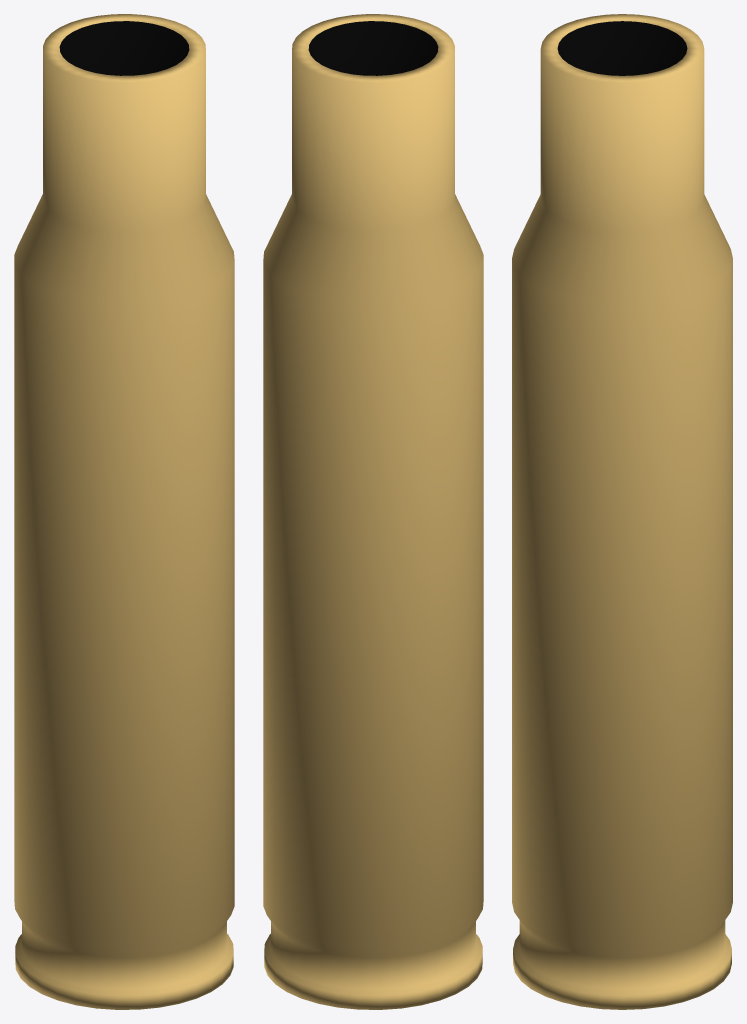
File: bullet case.fbx
3 views of the same model, side by side, from view 1: azimuth 30°, elevation 25°; view 2: azimuth 150°, elevation 25°; view 3: azimuth 270°, elevation 25° (orthographic).
Parts seen in each view (by area): view 1: notBullet; view 2: notBullet; view 3: notBullet.
Boxes of the visible parts, left/top/right/bottom form: notBullet: left=14, top=14, right=234, bottom=1009; notBullet: left=263, top=14, right=483, bottom=1009; notBullet: left=512, top=14, right=732, bottom=1009.
Bounding box in the file's own units: 59.52 × 272 × 59.52.
